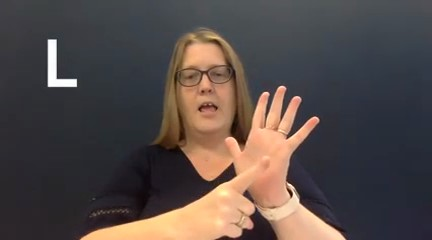L: (204, 81, 327, 240)
